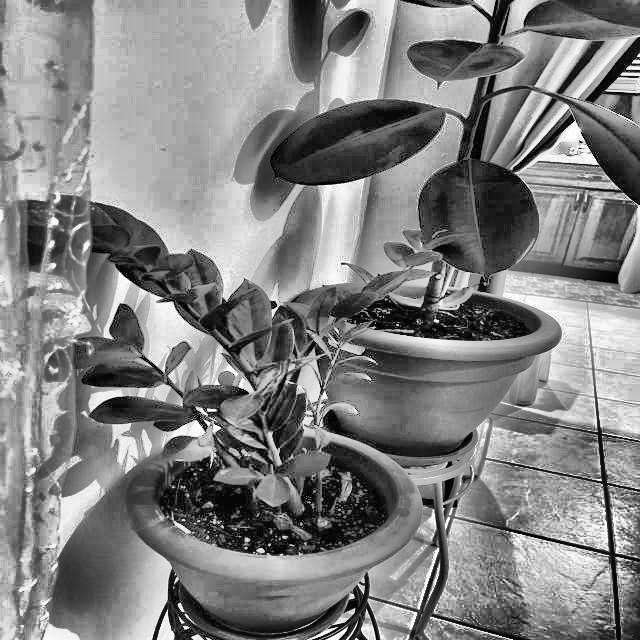plants: (110, 238, 360, 512), (389, 25, 582, 294)
